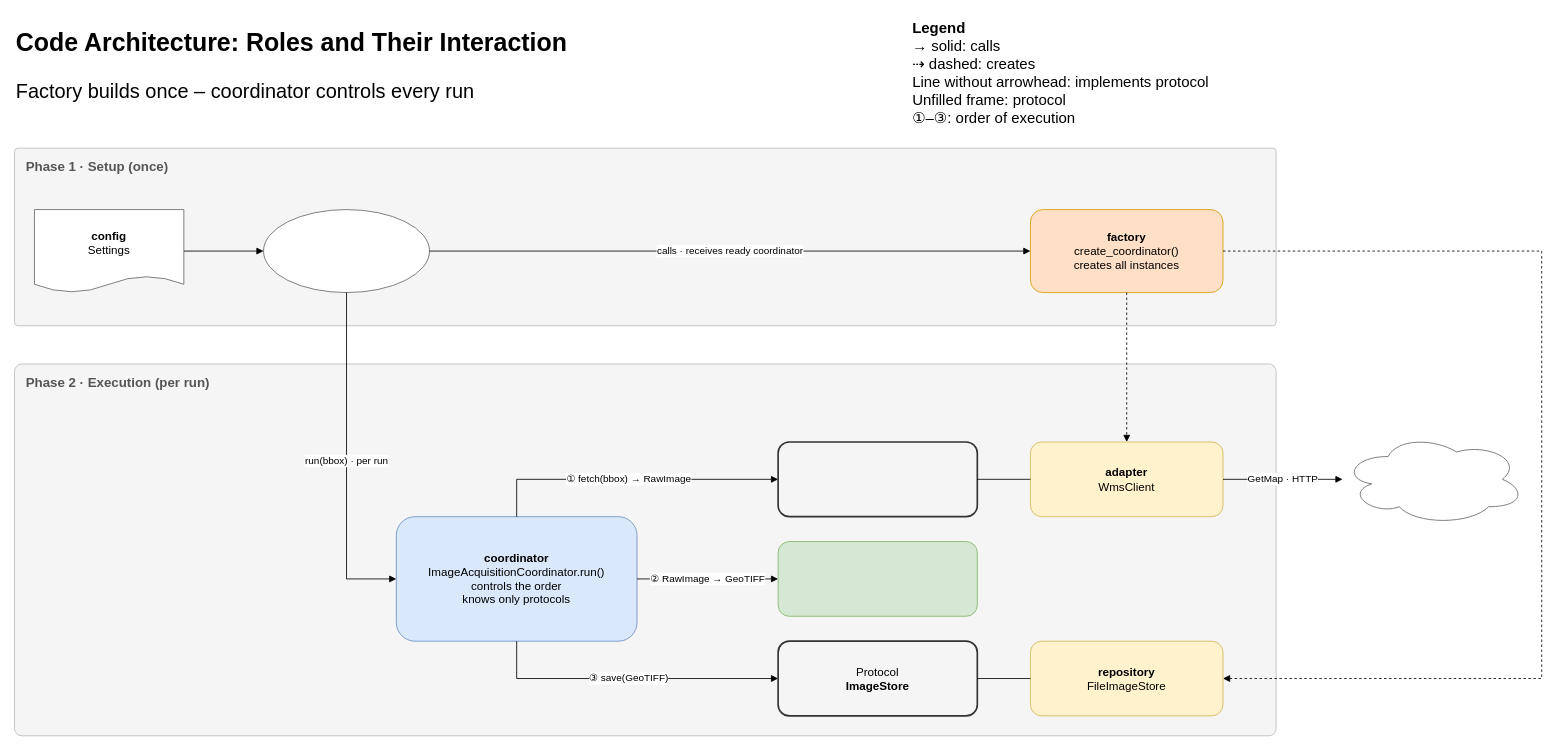
Image size: 1563x750. Some labels were removed from this diagram. Each missing label, with the box of its shape:
function to_geotiff() georeferences image: (777, 541, 977, 616)
main Entry point: (263, 209, 430, 293)
Protocol ImageSource: (777, 441, 978, 517)
WMS server external: (1342, 433, 1525, 525)
